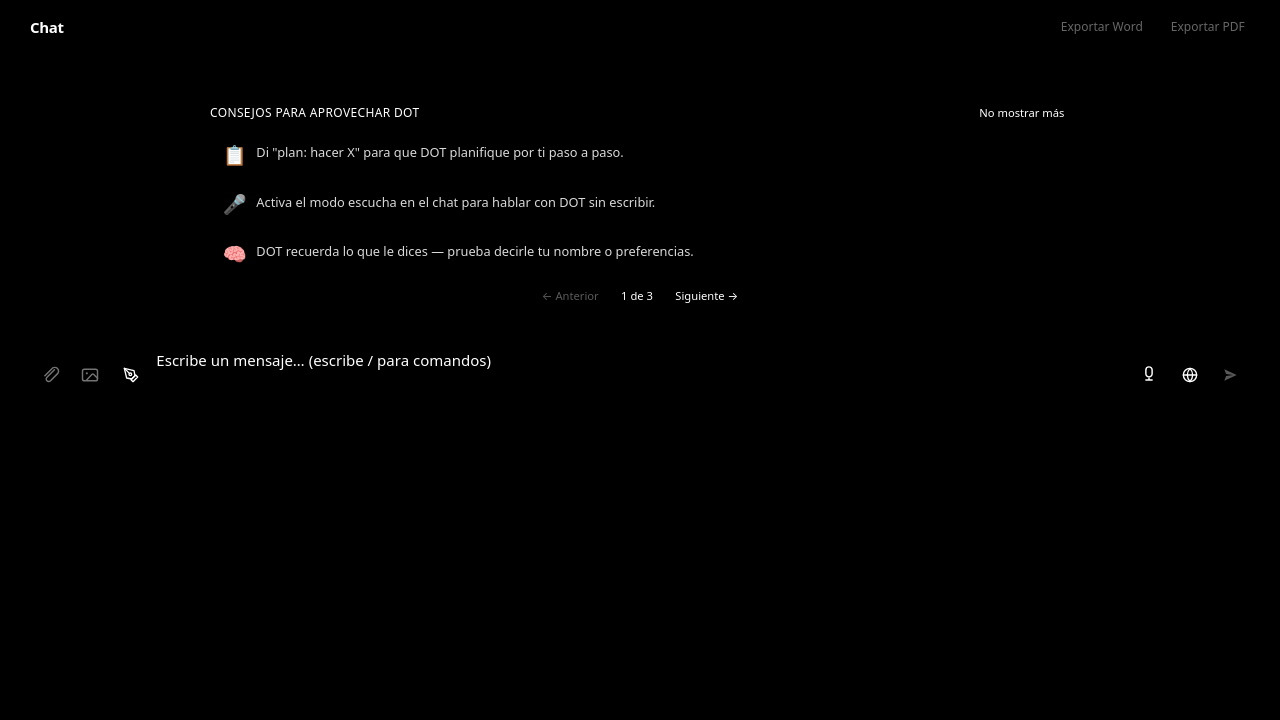
Test: DotChatPanel command suggestions › oculta sugerencias al borrar el slash
In the text box with placeholder "Escribe un mensaje… (escribe / para comandos)": point(640, 367) [154,342,1126,392], type "/"
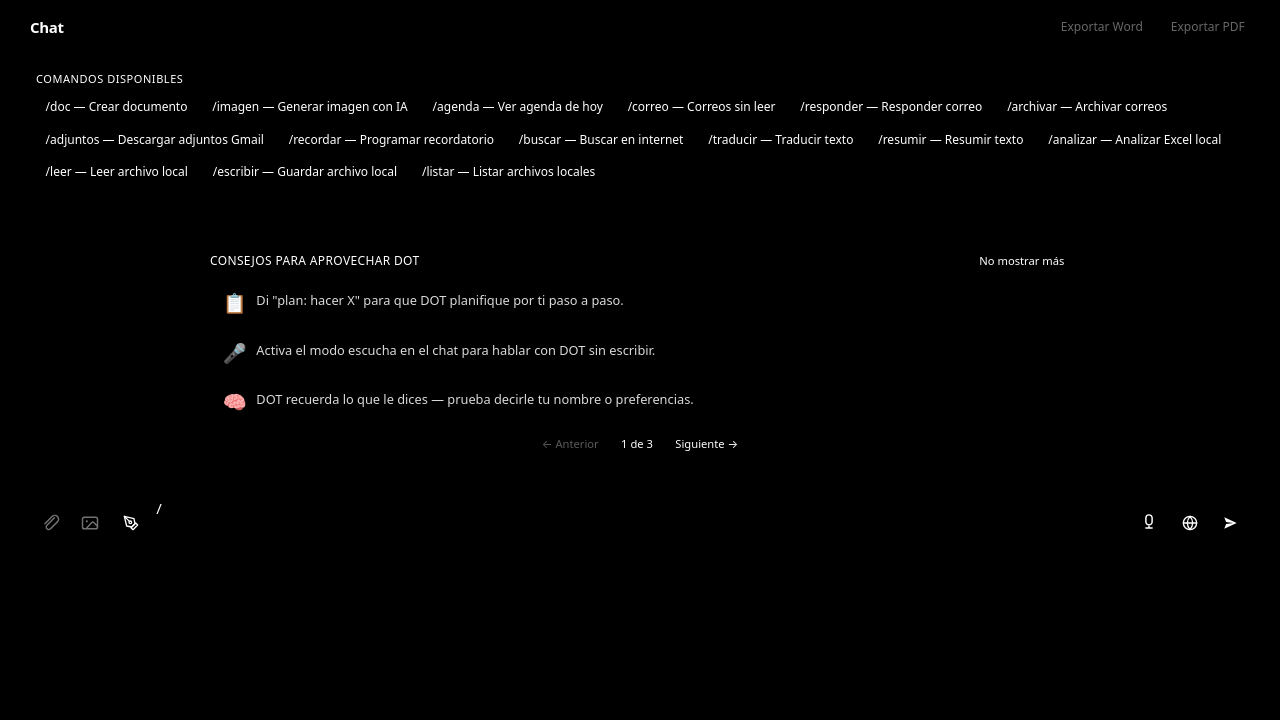
Check: the text "Comandos disponibles" is shown, box [36,71,183,86]
Clear the text box with placeholder "Escribe un mensaje… (escribe / para comandos)": point(640, 515) [154,490,1126,540]
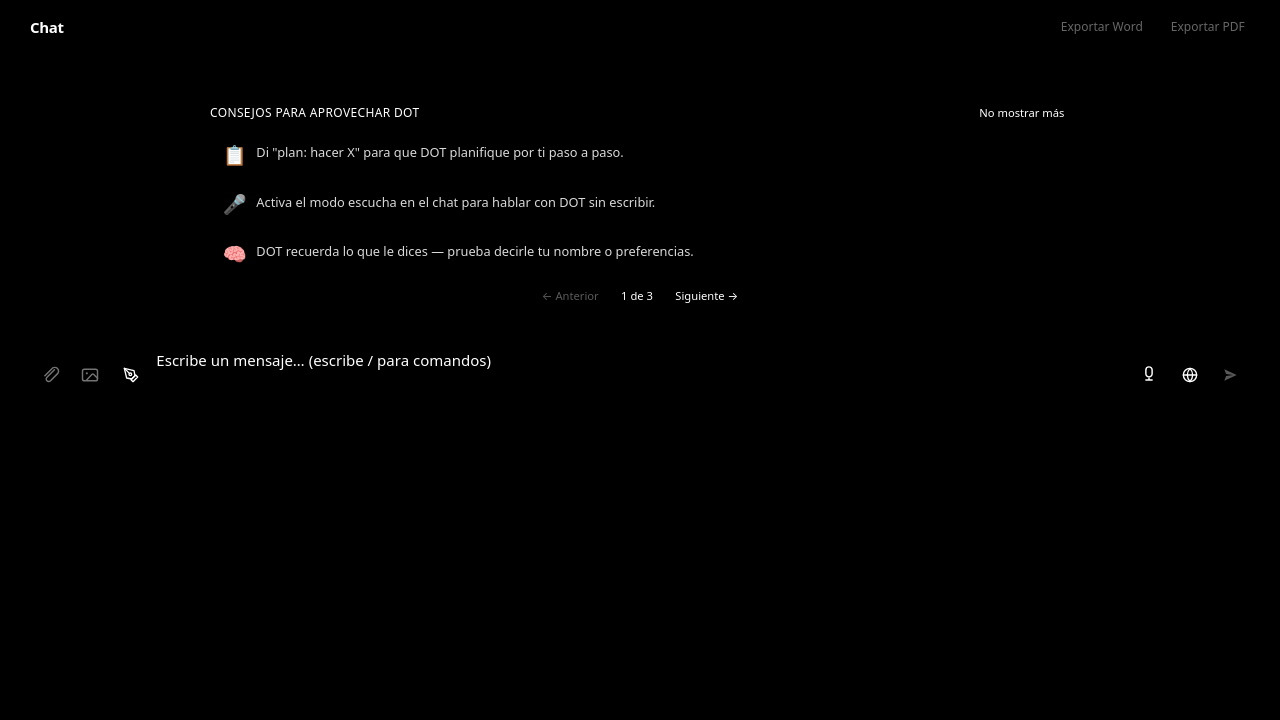
Check: the text "Comandos disponibles" is gone
